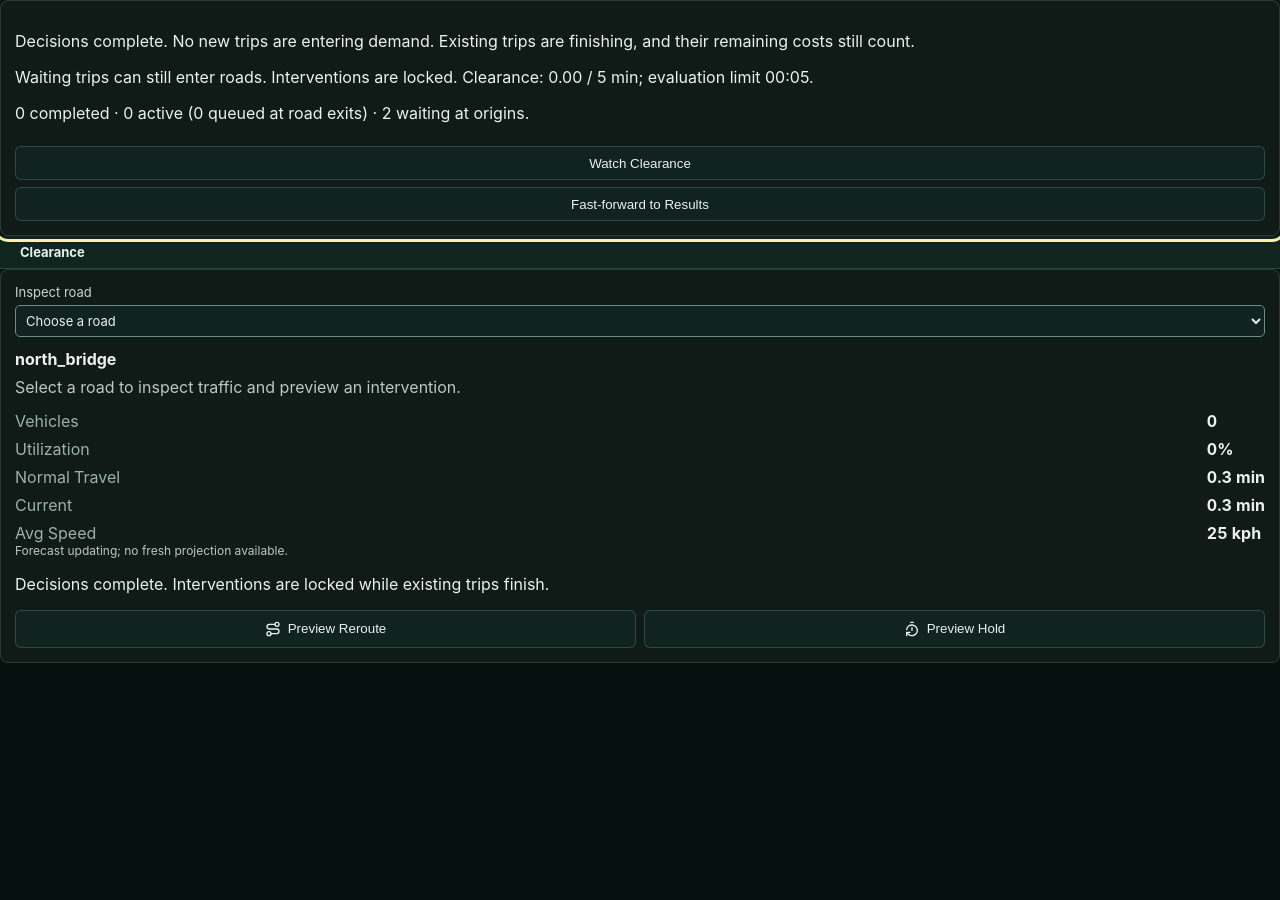
Test: player-visible clearance and bounded live fast-forward › watch and fast-forward use identical ticks, metrics, logs, checkpoint and final checksum
Click the button "Fast-forward to Results".
click(640, 204)  # box [15,187,1265,221]
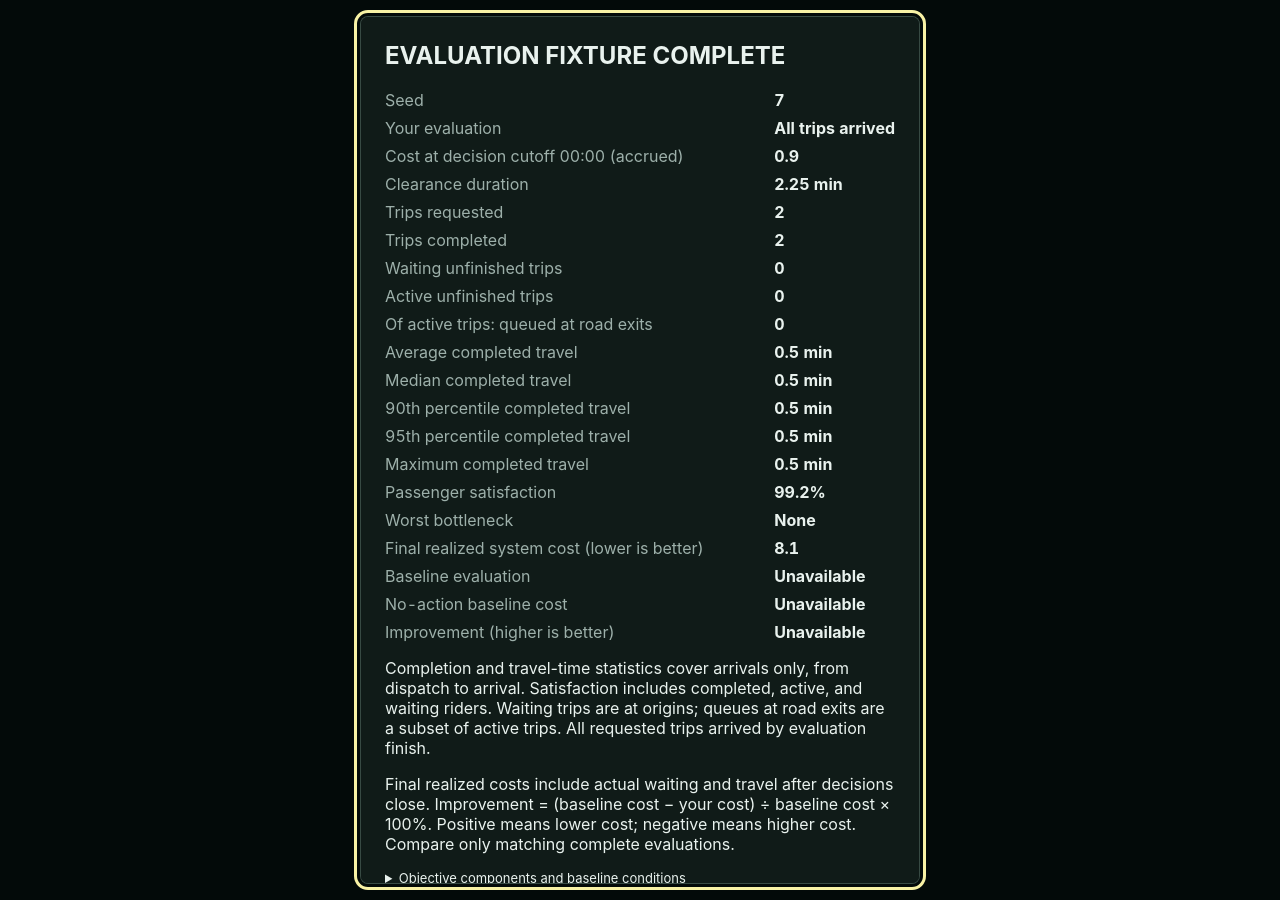
Now the text "Final realized system cost" is shown, box [385,538,704,558]
Now the text "Cost at decision cutoff" is shown, box [385,146,559,166]
